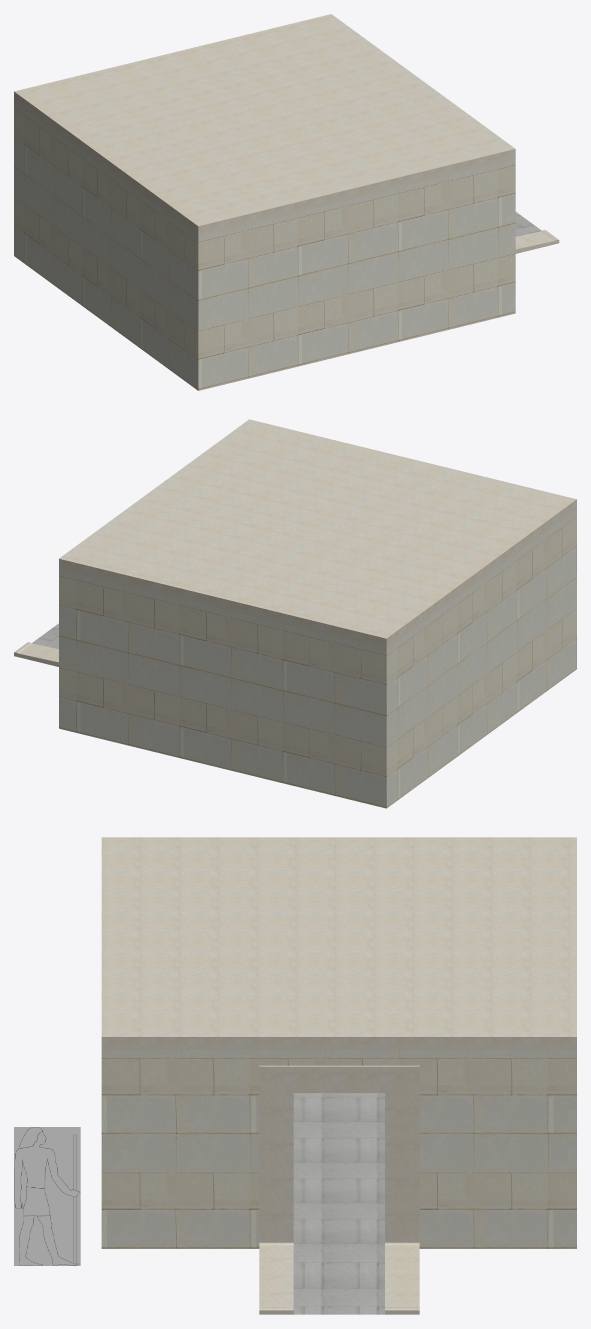
The model's file is Huy.glb.
3 views of the same model, one above another, from view 1: azimuth 30°, elevation 25°; view 2: azimuth 150°, elevation 25°; view 3: azimuth 270°, elevation 25° (orthographic). The views are drawn at different scales.
Visible parts, largest first — view 1: Mesh1 Model; view 2: Mesh1 Model; view 3: Mesh1 Model, Mesh2 Model.
Boxes of the visible parts, box(x1,y1,x2,y2) form: Mesh1 Model: box(14, 14, 559, 390); Mesh1 Model: box(14, 419, 576, 808); Mesh1 Model: box(101, 837, 576, 1314); Mesh2 Model: box(14, 1127, 80, 1265).
Bounding box in the file's own units: 6.54 × 2.44 × 5.86.
Materials: 5 (4 with a texture image).
